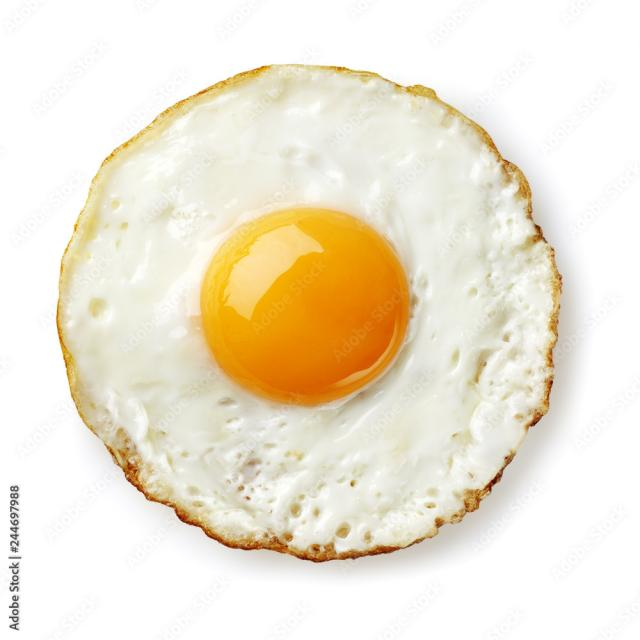Egg: (58, 65, 560, 561)
